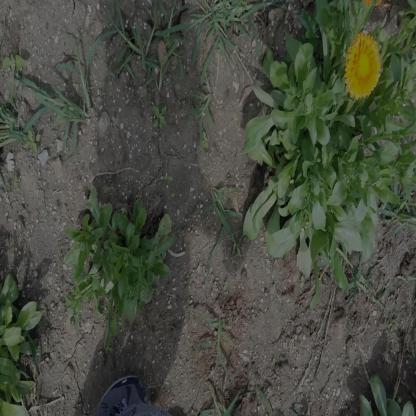marigold: (344, 36, 381, 101)
